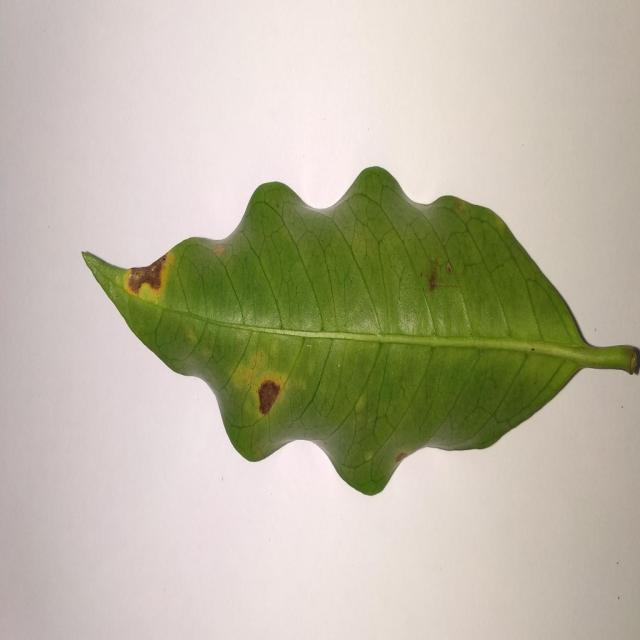Enfermedad-Mancha-de-hierro: (81, 166, 640, 500)
